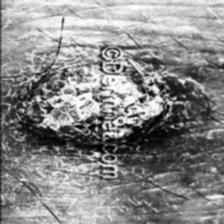Toxin: (20, 61, 99, 144), (120, 62, 162, 140)
